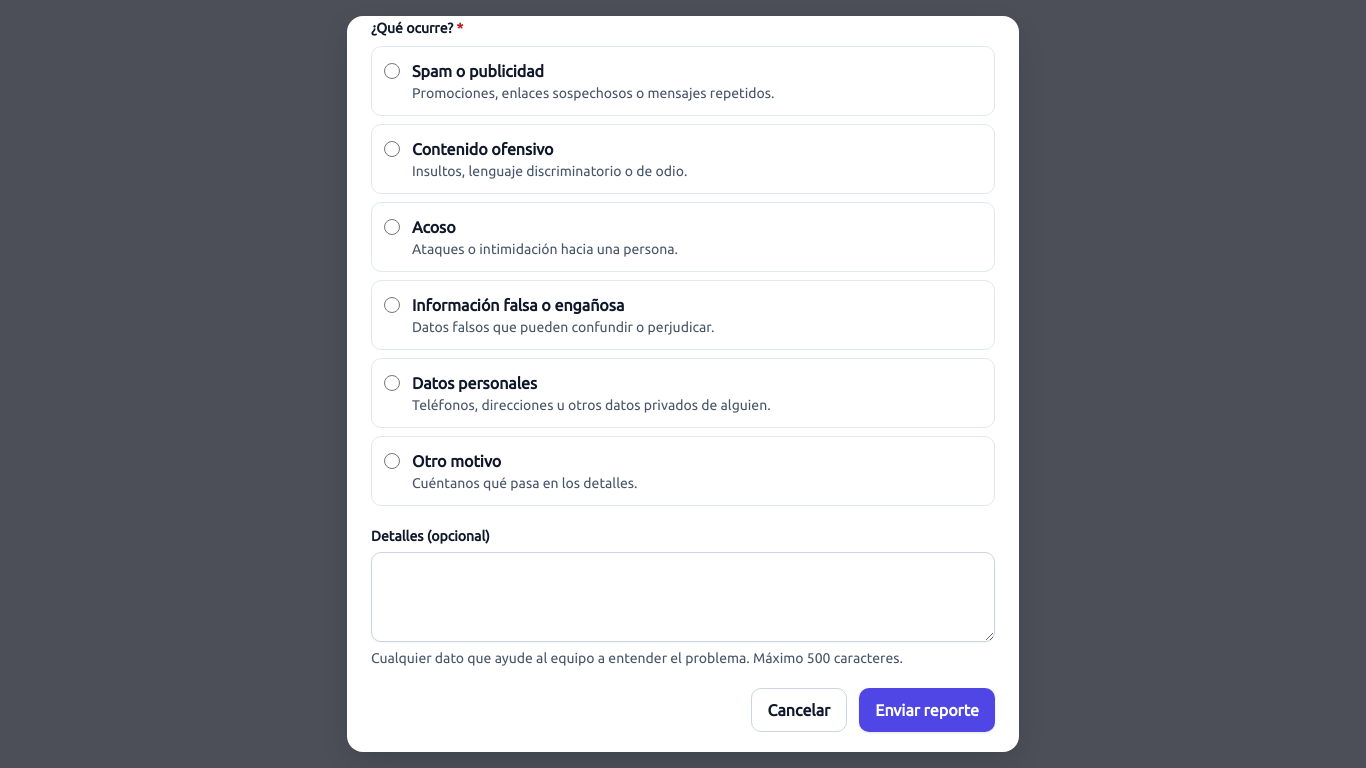
it: ReportDialog › pide un motivo antes de enviar
This screenshot has width=1366, height=768.
(page scrolled)
Click the button "Enviar reporte" at (927, 710), box [859,688,995,732]
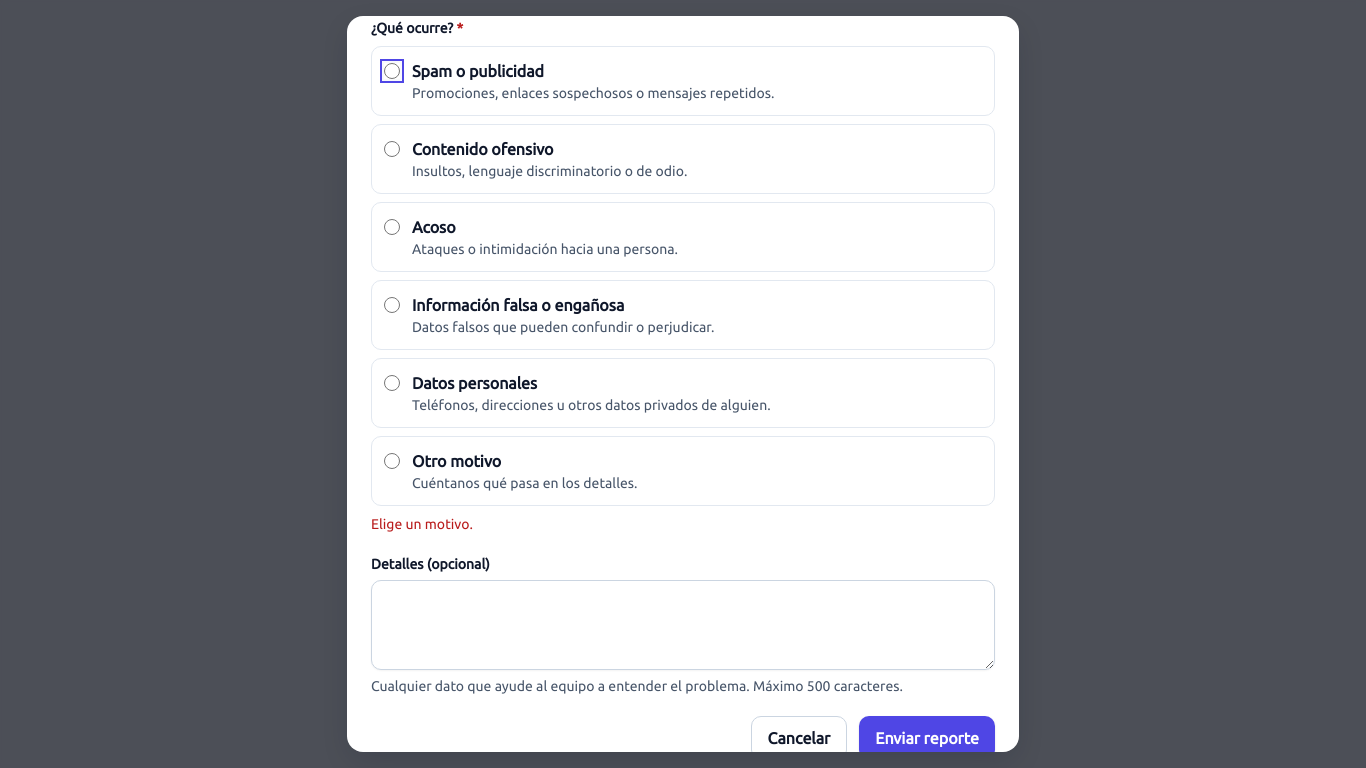
Now the message reads "Elige un motivo.", box [371,516,473,532]
